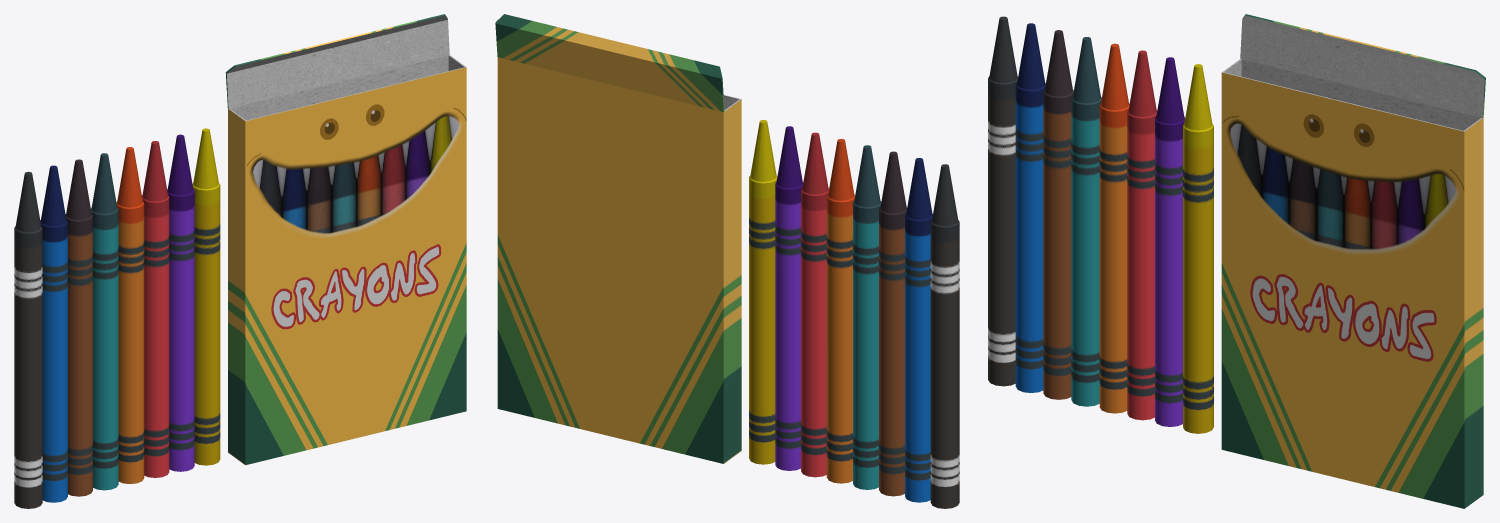
The picture shows the model from 3 angles, left to right: view 1: azimuth 30°, elevation 25°; view 2: azimuth 150°, elevation 25°; view 3: azimuth 330°, elevation 25°; orthographic projection. The views are drawn at different scales.
Visible parts, largest first — view 1: CrayonsBox_CrayonsBox_0, CrayonBlack_Black_0, CrayonYellow_Yellow_0, CrayonOrange_Orange_0, CrayonGreen_Green_0, CrayonViolet_Violet_0, CrayonBlue_Blue_0, CrayonRed_Red_0, CrayonBrown_Brown_0; view 2: CrayonsBox_CrayonsBox_0, CrayonBlack_Black_0, CrayonYellow_Yellow_0, CrayonOrange_Orange_0, CrayonRed_Red_0, CrayonGreen_Green_0, CrayonBrown_Brown_0, CrayonBlue_Blue_0, CrayonViolet_Violet_0; view 3: CrayonsBox_CrayonsBox_0, CrayonYellow_Yellow_0, CrayonBrown_Brown_0, CrayonGreen_Green_0, CrayonOrange_Orange_0, CrayonBlue_Blue_0, CrayonViolet_Violet_0, CrayonRed_Red_0, CrayonBlack_Black_0.
Boxes of the visible parts, x1,y1,x2,y2 form: CrayonsBox_CrayonsBox_0: (225, 14, 466, 465); CrayonBlack_Black_0: (14, 171, 42, 508); CrayonYellow_Yellow_0: (192, 128, 220, 465); CrayonOrange_Orange_0: (116, 147, 144, 483); CrayonGreen_Green_0: (91, 153, 118, 490); CrayonViolet_Violet_0: (167, 134, 194, 471); CrayonBlue_Blue_0: (40, 165, 67, 502); CrayonRed_Red_0: (142, 141, 169, 477); CrayonBrown_Brown_0: (65, 159, 92, 496); CrayonsBox_CrayonsBox_0: (495, 14, 741, 463); CrayonBlack_Black_0: (930, 164, 959, 508); CrayonYellow_Yellow_0: (749, 120, 777, 464); CrayonOrange_Orange_0: (826, 139, 854, 483); CrayonRed_Red_0: (801, 132, 828, 477); CrayonGreen_Green_0: (853, 145, 881, 489); CrayonBrown_Brown_0: (879, 151, 906, 496); CrayonBlue_Blue_0: (905, 158, 932, 502); CrayonViolet_Violet_0: (775, 126, 803, 470); CrayonsBox_CrayonsBox_0: (1221, 14, 1485, 508); CrayonYellow_Yellow_0: (1183, 64, 1213, 433); CrayonBrown_Brown_0: (1043, 30, 1073, 399); CrayonGreen_Green_0: (1071, 37, 1101, 406); CrayonOrange_Orange_0: (1099, 43, 1129, 413); CrayonBlue_Blue_0: (1015, 23, 1045, 392); CrayonViolet_Violet_0: (1155, 57, 1185, 426); CrayonRed_Red_0: (1127, 50, 1157, 420); CrayonBlack_Black_0: (988, 16, 1017, 386).
Bounding box in the file's own units: 0.2845 × 0.2381 × 0.0219.
9 materials, 9 textured.
